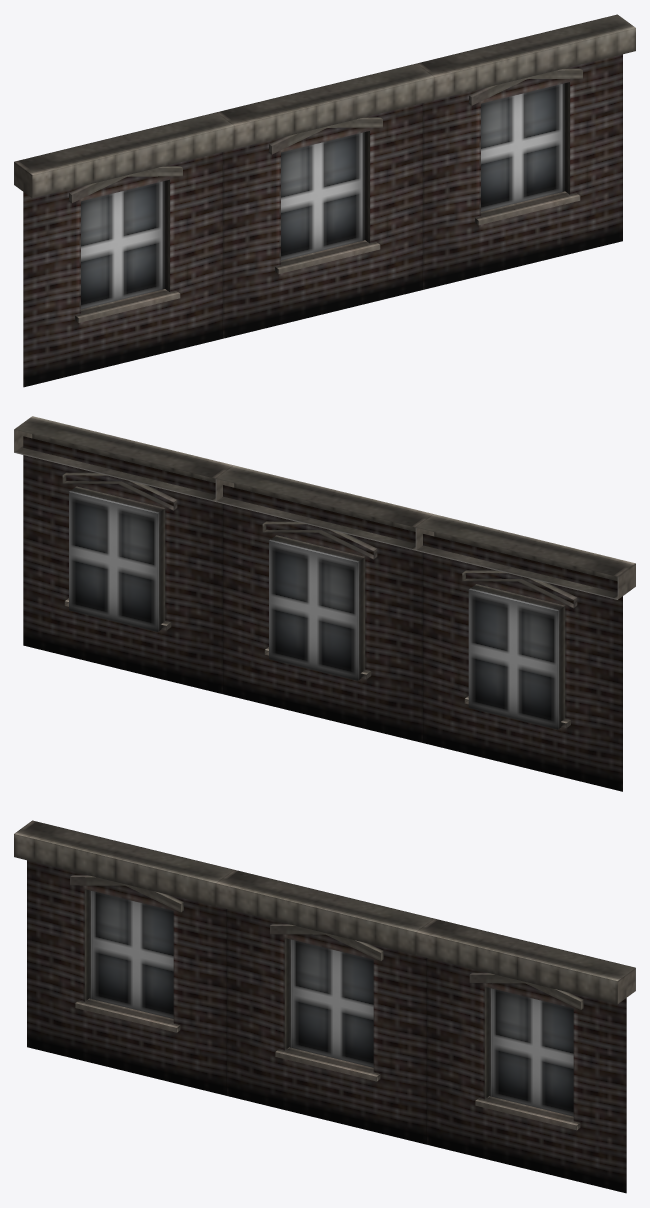
Rendered from B8_WindowA3x.FBX.
3 renders of one model, top to bottom at view 1: azimuth 30°, elevation 25°; view 2: azimuth 150°, elevation 25°; view 3: azimuth 330°, elevation 25°, orthographic.
Parts seen in each view (by area): view 1: B8_WindowA3x; view 2: B8_WindowA3x; view 3: B8_WindowA3x.
Boxes of the visible parts, x1=… form: B8_WindowA3x: x1=14, y1=14, x2=635, y2=387; B8_WindowA3x: x1=14, y1=416, x2=635, y2=791; B8_WindowA3x: x1=14, y1=820, x2=635, y2=1193.
Bounding box in the file's own units: 12.07 × 4.22 × 0.6404.
